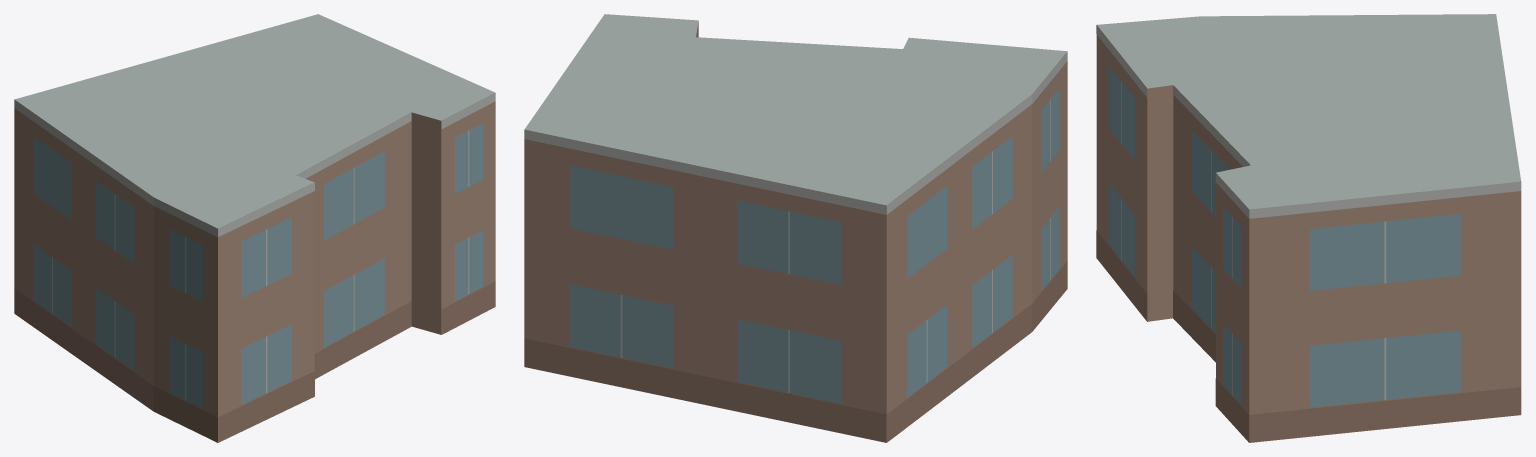
The model's file is survey-upis-32588048.glb.
The picture shows the model from 3 angles, left to right: view 1: azimuth 30°, elevation 25°; view 2: azimuth 150°, elevation 25°; view 3: azimuth 270°, elevation 25°; orthographic projection. The views are drawn at different scales.
Visible parts, largest first — view 1: survey-upis-32588048.tmp; view 2: survey-upis-32588048.tmp; view 3: survey-upis-32588048.tmp.
Boxes of the visible parts, x1,y1,x2,y2 form: survey-upis-32588048.tmp: (14, 14, 495, 442); survey-upis-32588048.tmp: (524, 14, 1067, 442); survey-upis-32588048.tmp: (1096, 14, 1521, 442).
Bounding box in the file's own units: 10.97 × 6.1 × 10.07.
